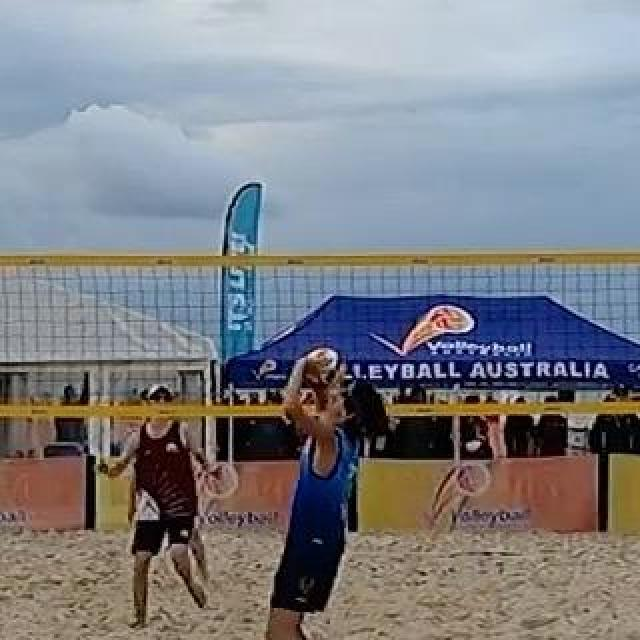volleyball: (303, 347, 345, 391)
